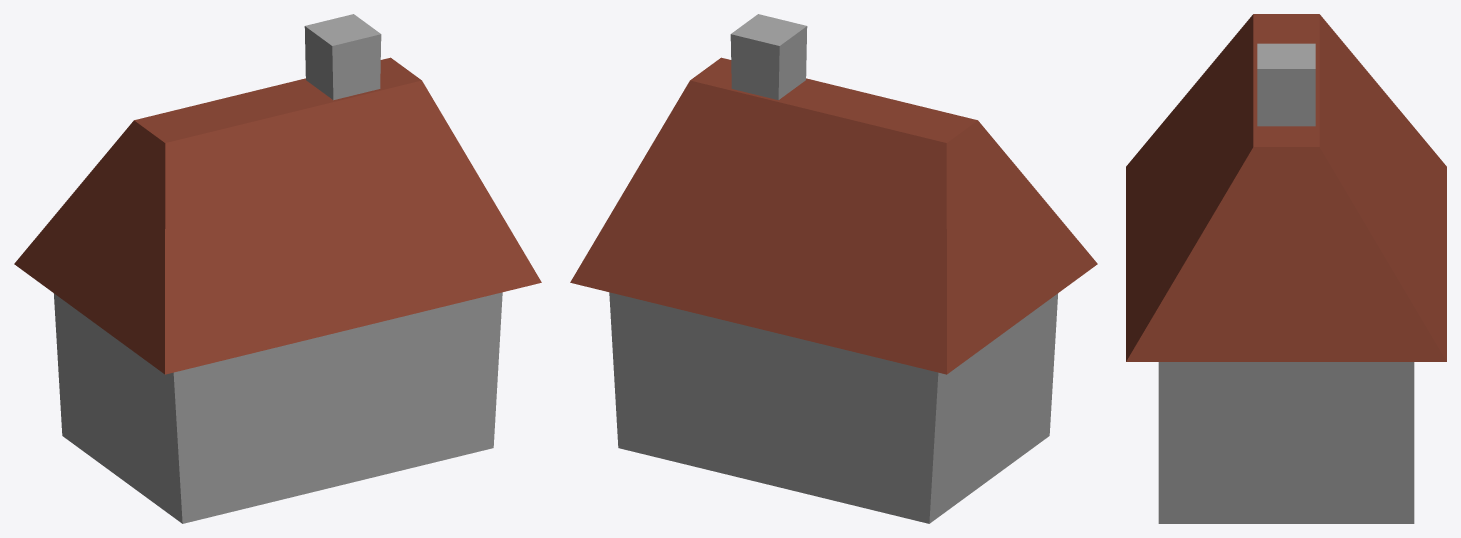
File: house.fbx
3 views of the same model, side by side, from view 1: azimuth 30°, elevation 25°; view 2: azimuth 150°, elevation 25°; view 3: azimuth 270°, elevation 25° (orthographic). The views are drawn at different scales.
Parts seen in each view (by area): view 1: house; view 2: house; view 3: house.
Boxes of the visible parts, x1,y1,x2,y2 form: house: [14, 14, 541, 523]; house: [570, 14, 1097, 523]; house: [1126, 14, 1446, 523].
Bounding box in the file's own units: 0.5101 × 0.5123 × 0.3542.
